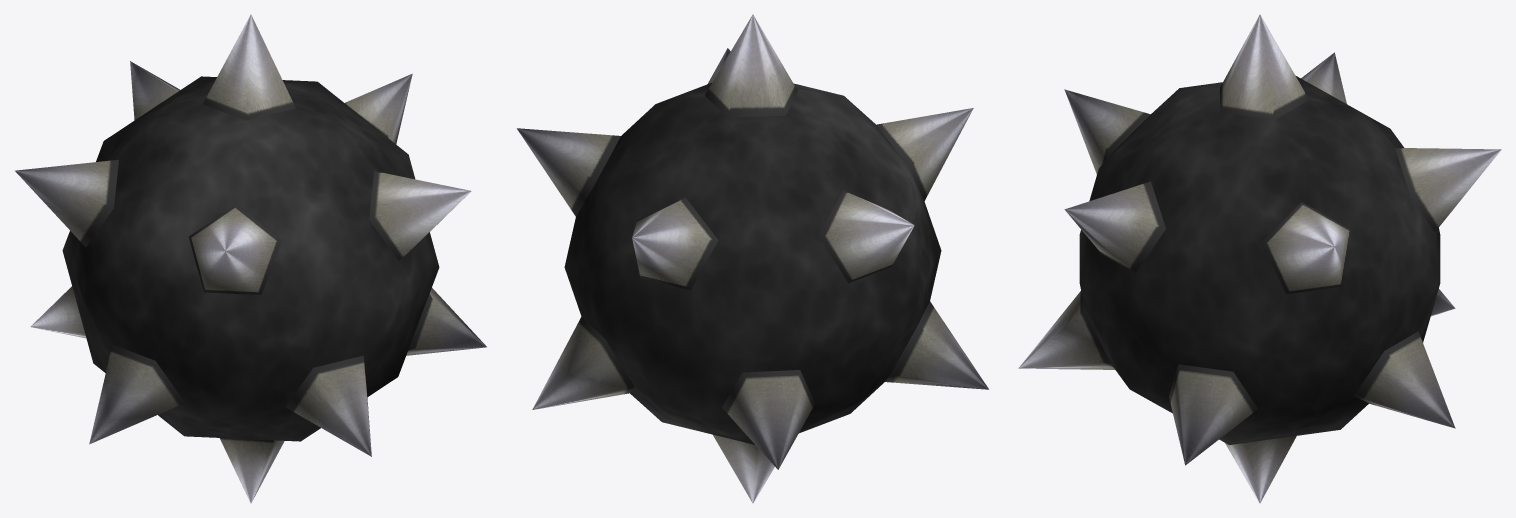
The model's file is Spikes.fbx.
3 views of the same model, side by side, from view 1: azimuth 30°, elevation 25°; view 2: azimuth 150°, elevation 25°; view 3: azimuth 270°, elevation 25° (orthographic).
Visible parts, largest first — view 1: Empty_Mesh; view 2: Empty_Mesh; view 3: Empty_Mesh.
Boxes of the visible parts, x1,y1,x2,y2 form: Empty_Mesh: (15,14,486,503); Empty_Mesh: (517,14,988,503); Empty_Mesh: (1018,14,1501,503).
Bounding box in the file's own units: 0.6067 × 0.7132 × 0.6379.
